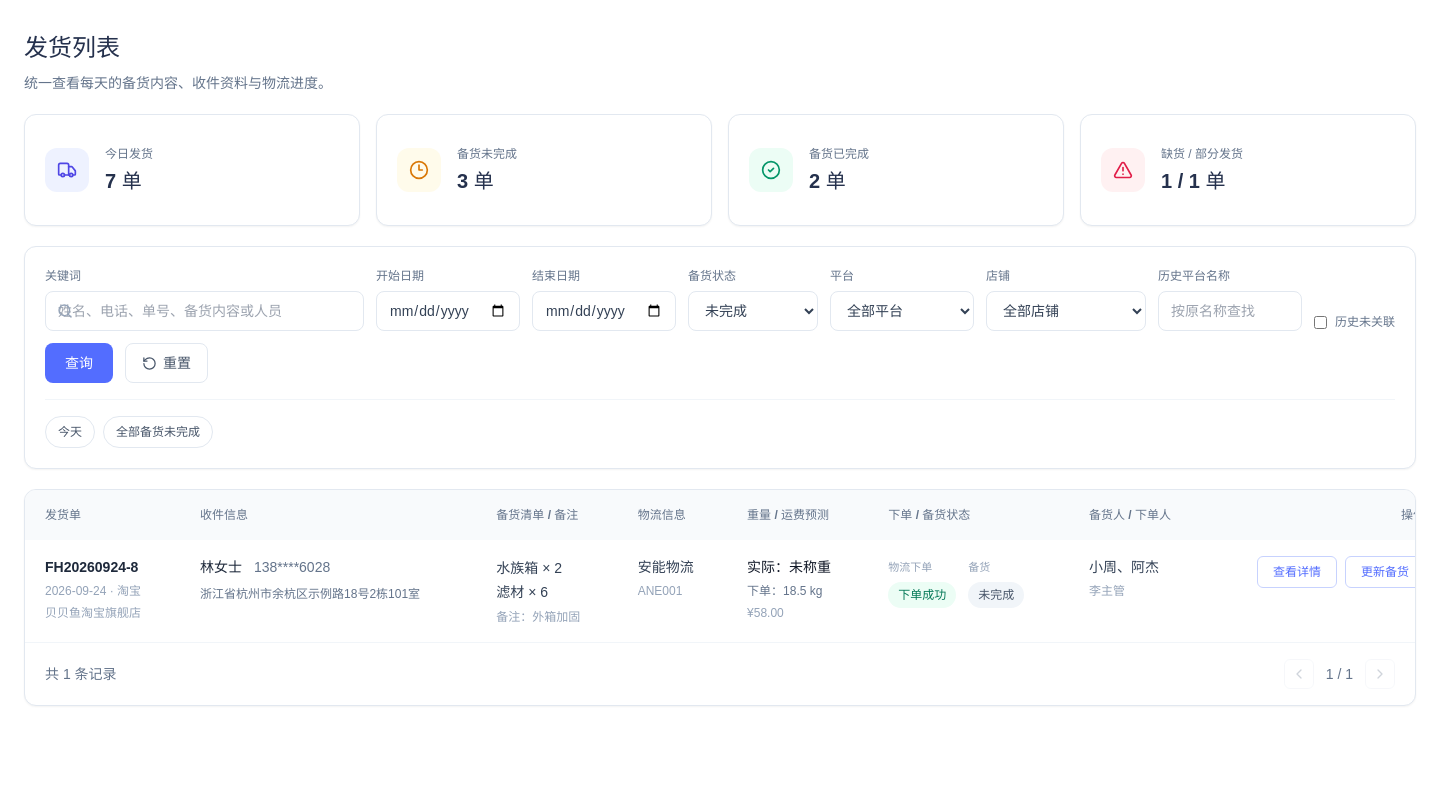
Test case: ShipmentListView › lets assigned preparers save status and actual weight on the list
Click the button with test id "shipment-prepare-8".
click(1385, 572)  # box [1345,556,1425,588]
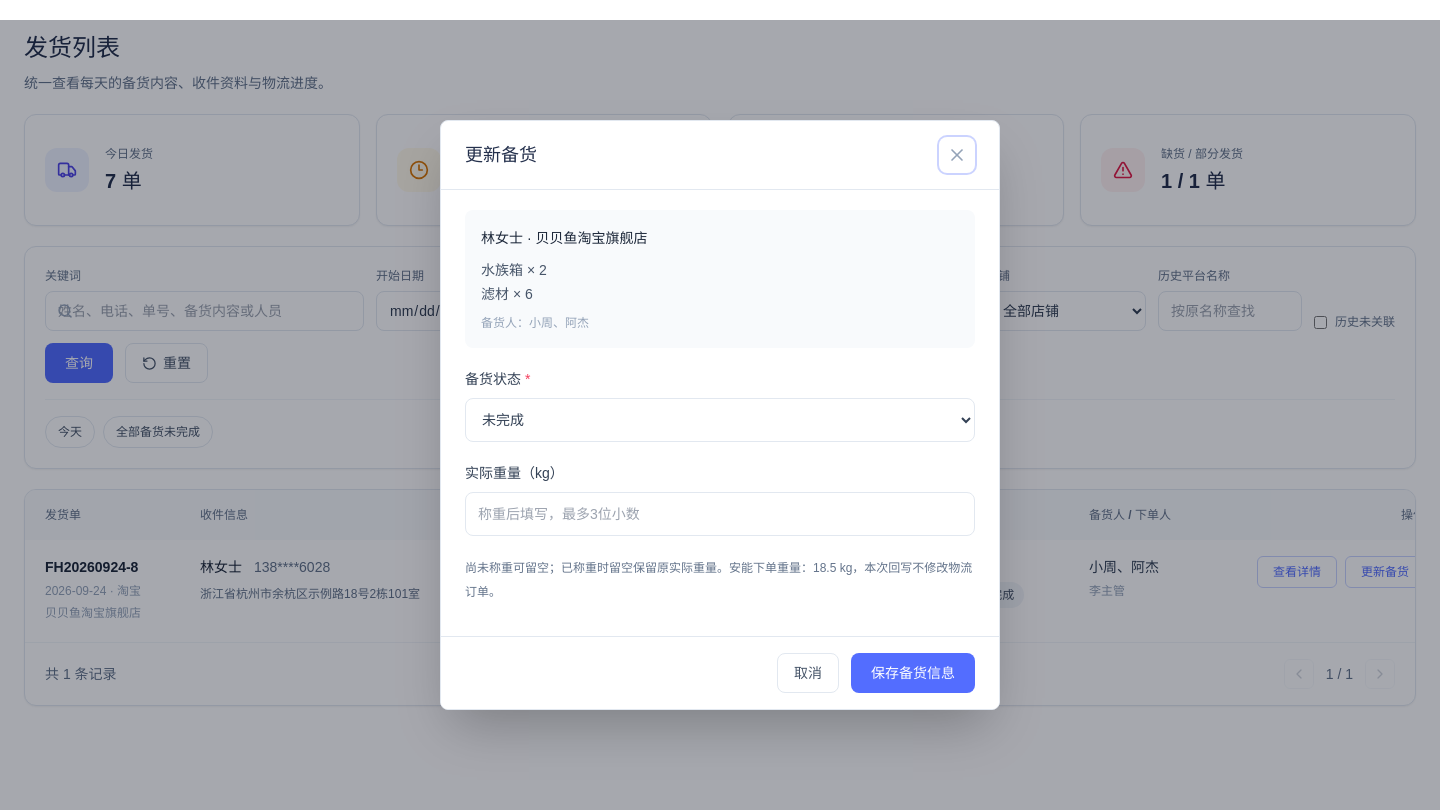
Select "已完成" in the dropdown with test id "preparation-status" at (720, 420), box [465,398,975,442]
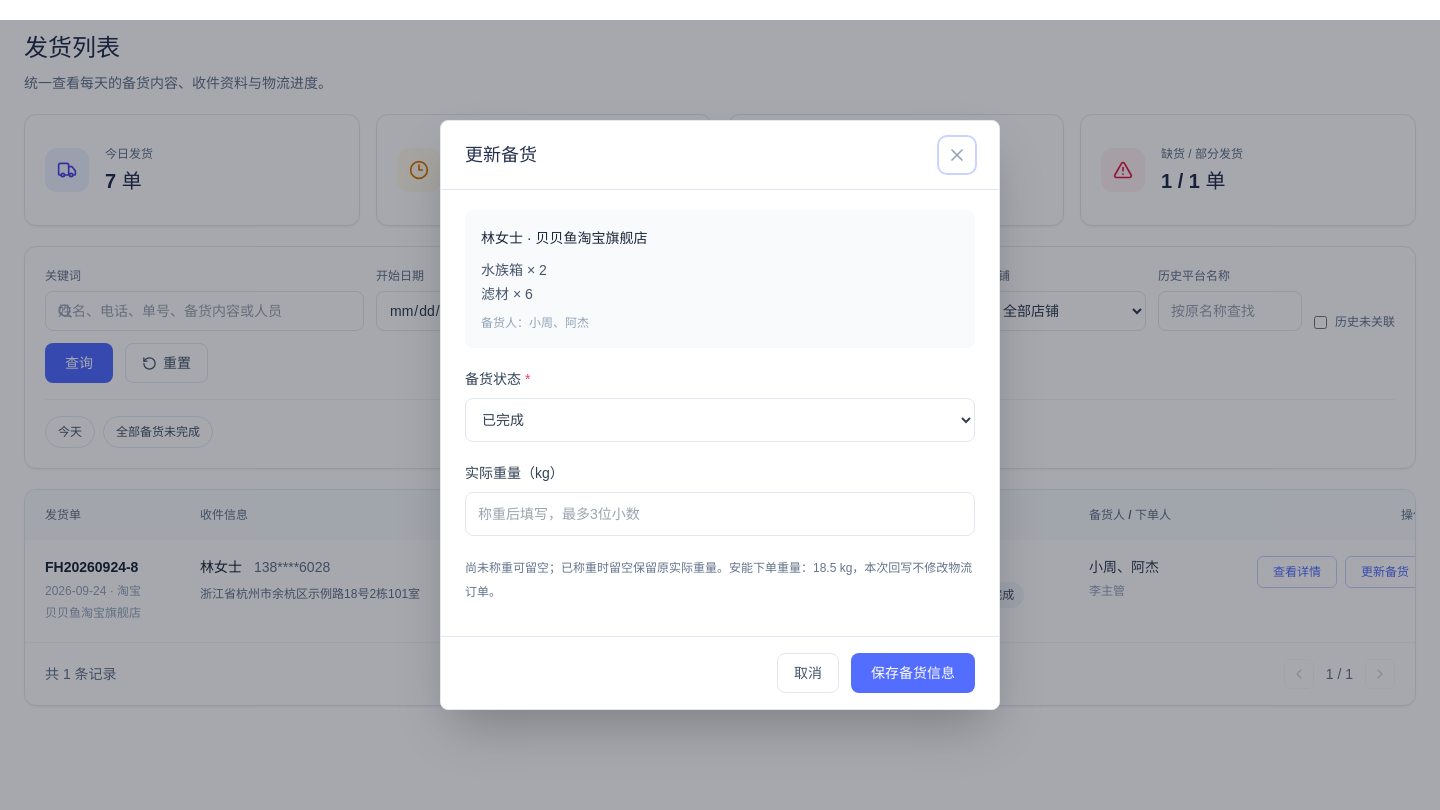
Type "19.235" into the number field with test id "preparation-actual-weight".
click(720, 514); type("19.235")  # box [465,492,975,536]
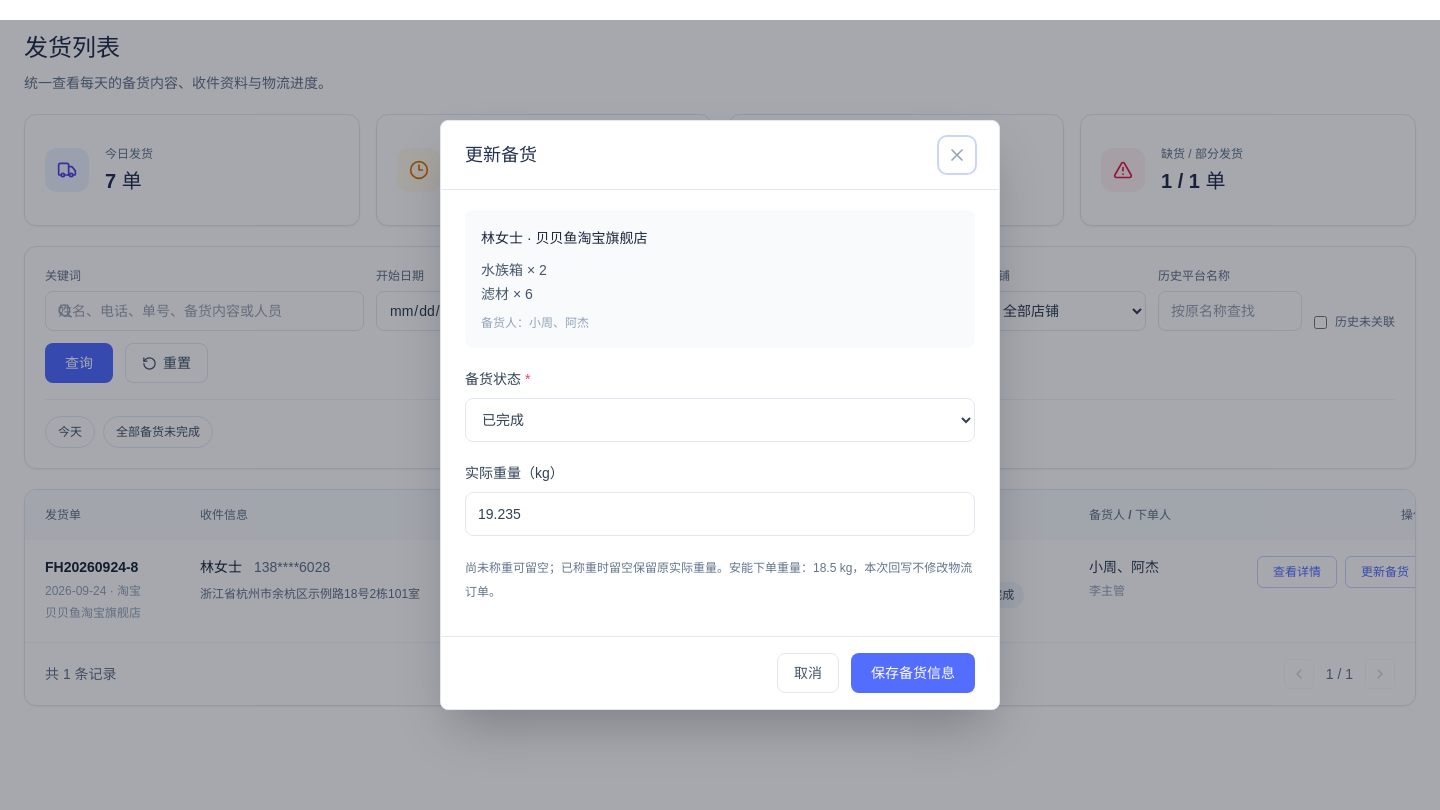
Click the button with test id "preparation-save".
click(913, 673)  # box [851,653,975,693]
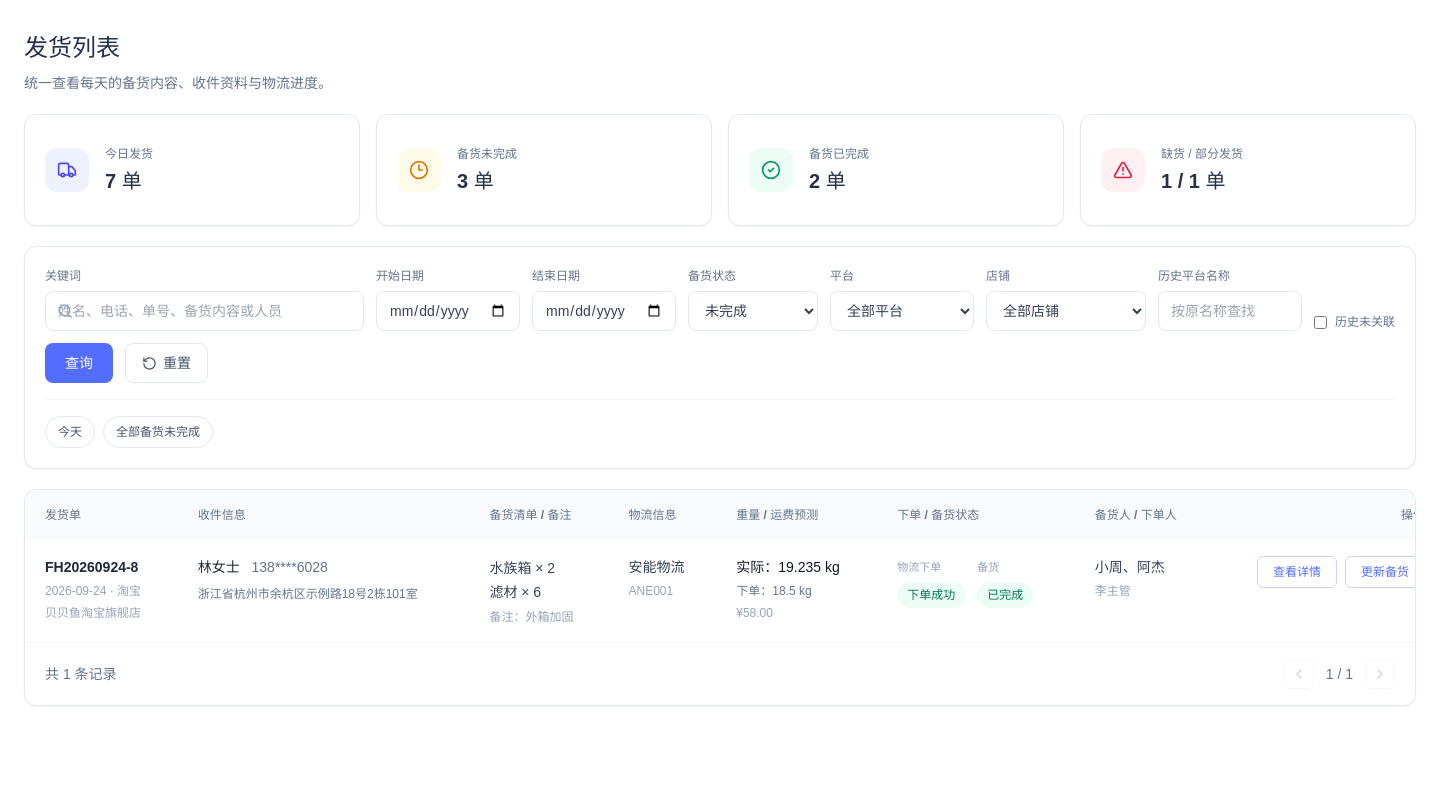
Expected: the text with test id "shipment-logistics-status-8" reads "下单成功", [907,588,955,602]
Now the text with test id "shipment-preparation-status-8" reads "已完成", box [987,588,1023,602]
Now the text with test id "shipment-actual-weight-8" shows "19.235 kg", box [736,559,840,575]
